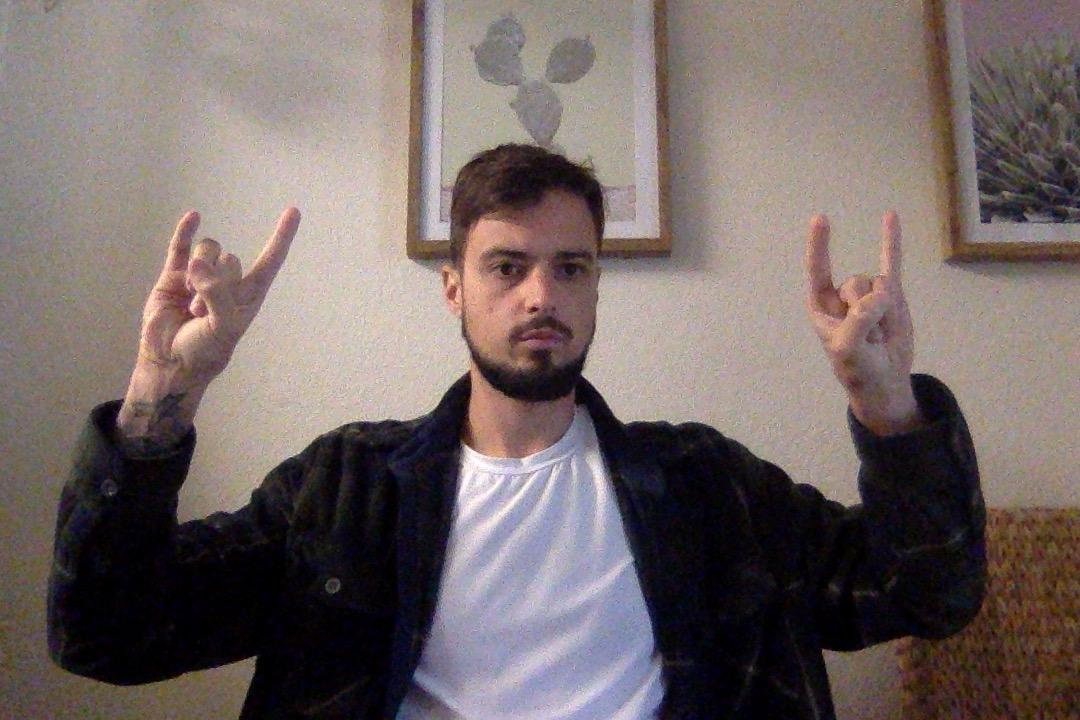Rock: (114, 200, 306, 401), (790, 212, 929, 404)
